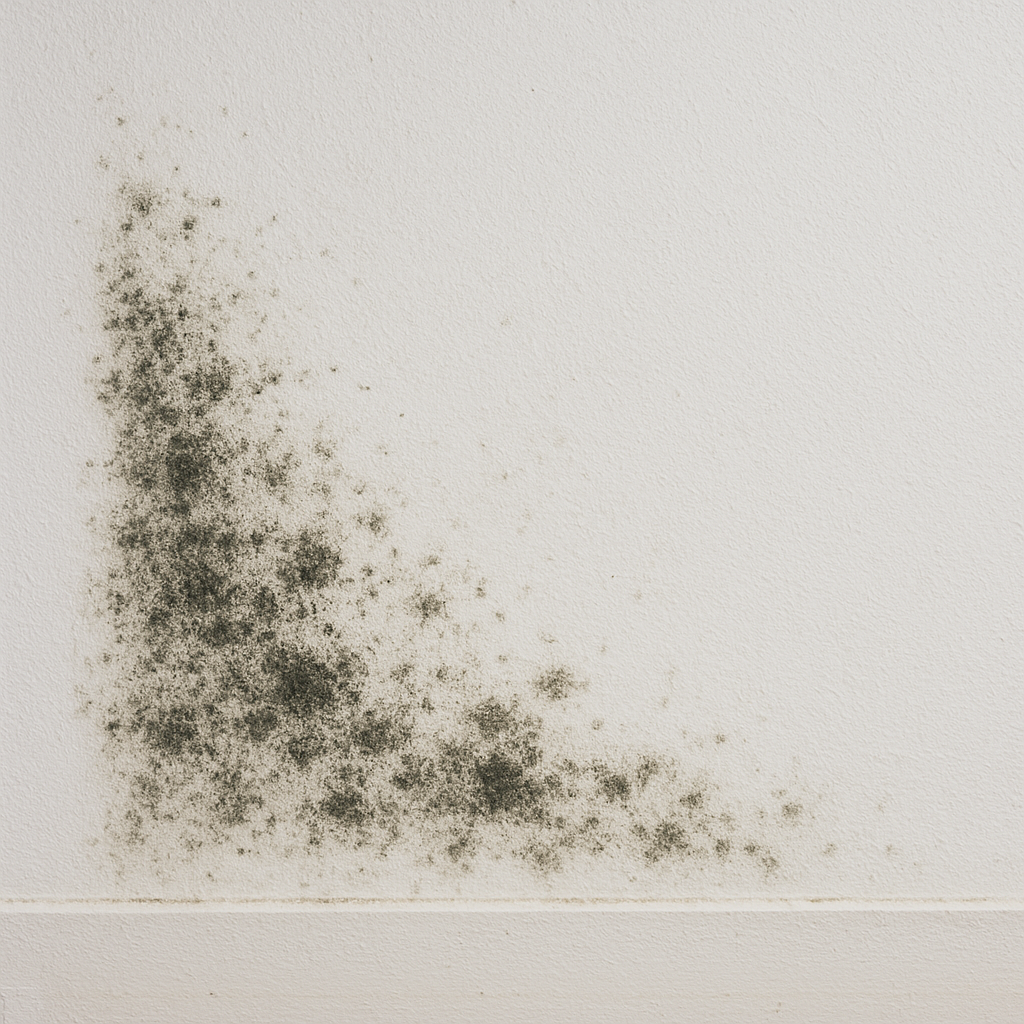schimmel: (85, 210, 215, 821), (234, 526, 361, 821), (432, 740, 677, 819), (405, 580, 487, 619), (377, 700, 421, 765)
